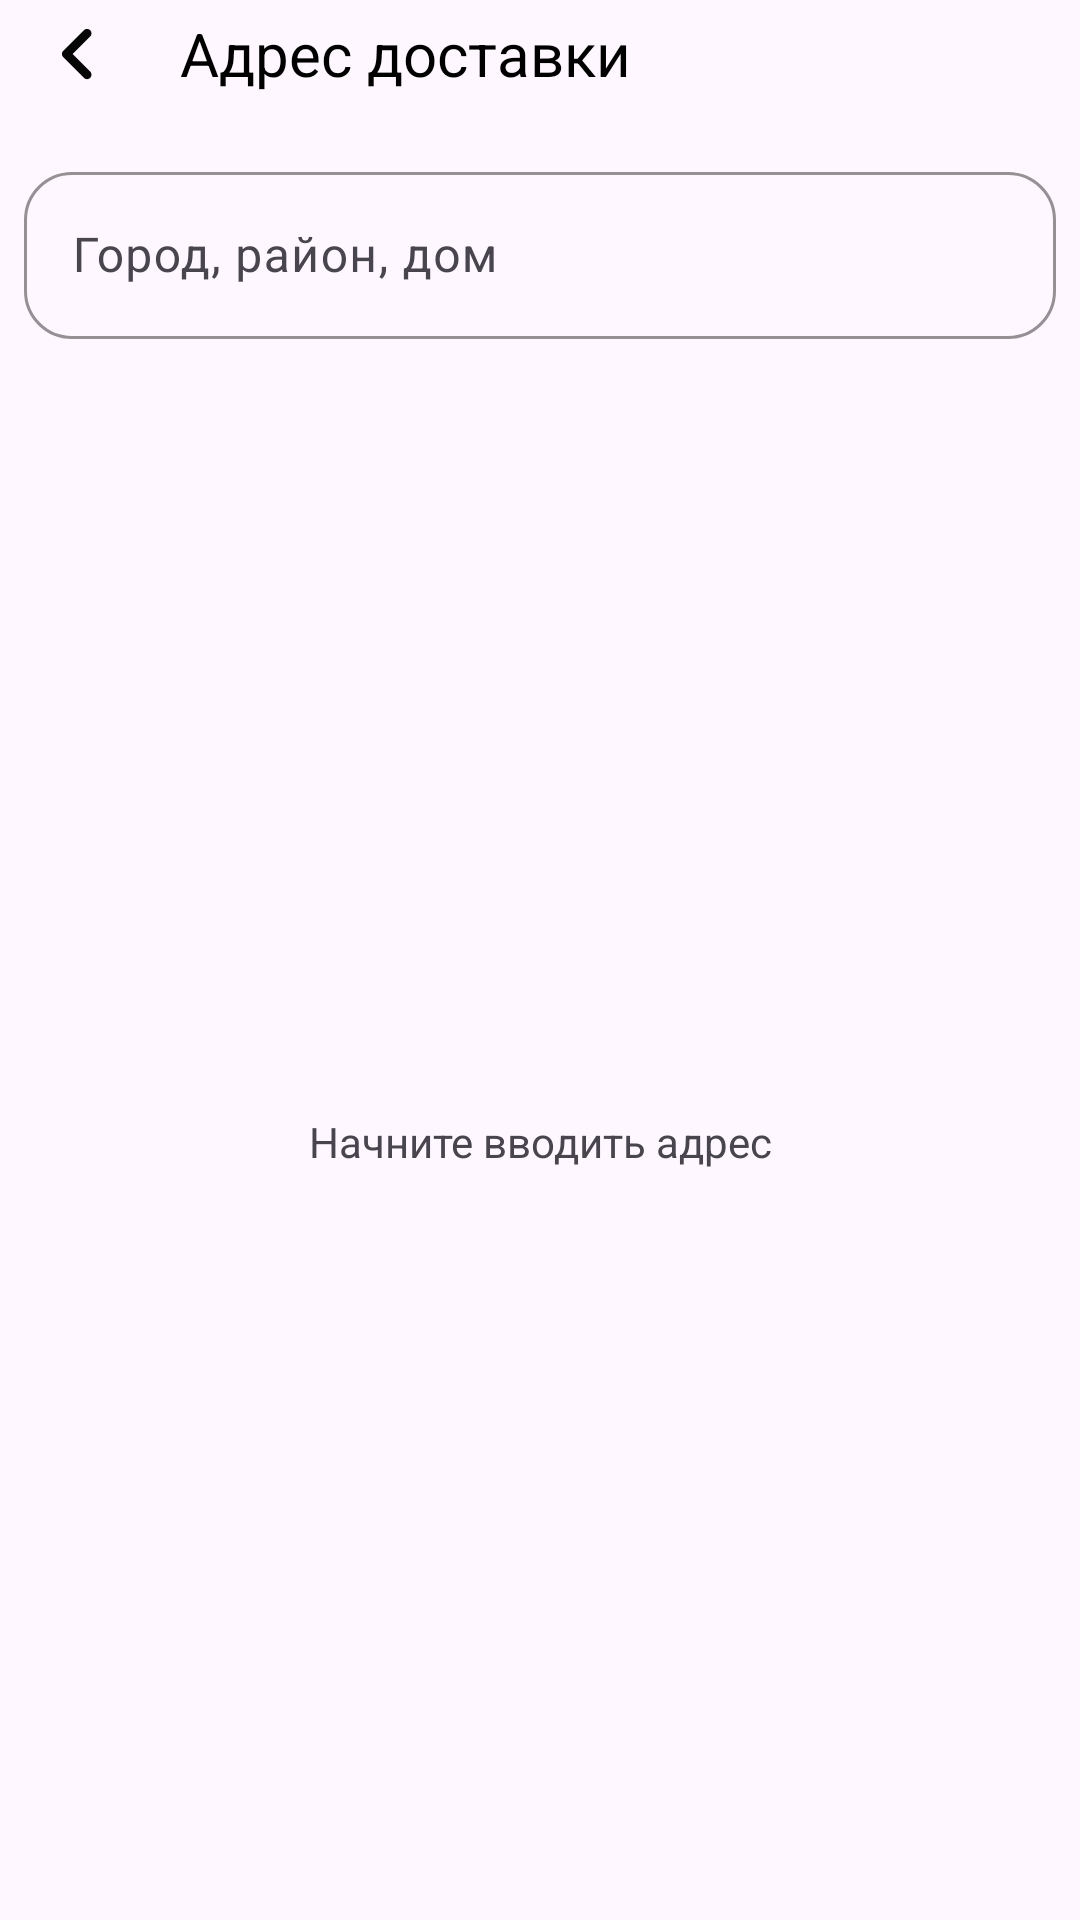

Where to tap for icons on this 1080 × 1920 app screen, as (x=x, y=y):
arrow back: (x=77, y=54)
